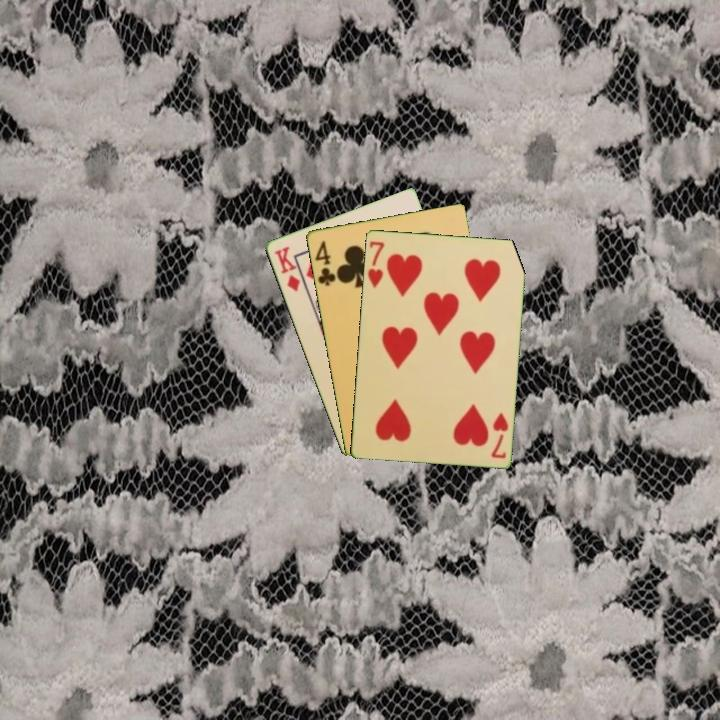4c: (311, 237, 338, 288)
7h: (487, 409, 511, 461), (364, 238, 387, 291)
Kd: (270, 242, 303, 295)
